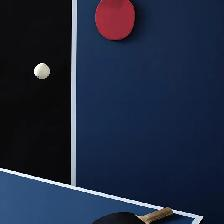WhiteBall: (33, 63, 49, 79)
